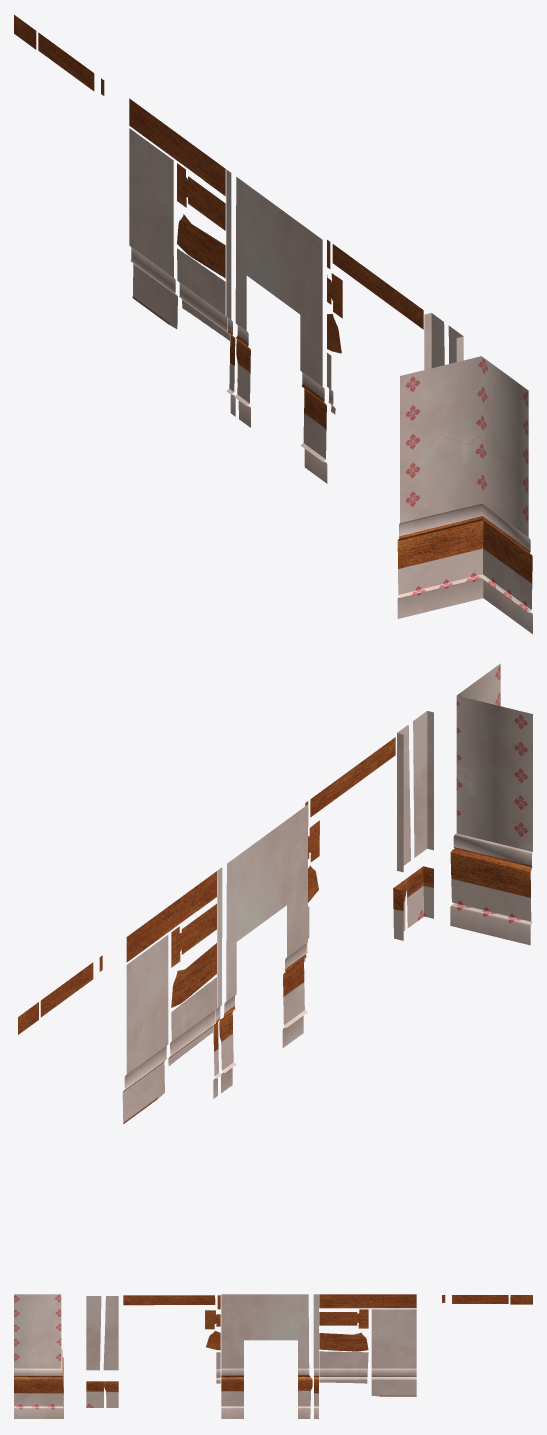
Rendered from interiorWalls.fbx.
The picture shows the model from 3 angles, top to bottom: view 1: azimuth 30°, elevation 25°; view 2: azimuth 150°, elevation 25°; view 3: azimuth 270°, elevation 25°; orthographic projection. The views are drawn at different scales.
Visible parts, largest first — view 1: InteriorWall_corner, InteriorWall_normal, InteriorWall_entrance, InteriorWall_windowS, InteriorWall_windowL, InteriorWall_pillar; view 2: InteriorWall_corner, InteriorWall_normal, InteriorWall_entrance, InteriorWall_pillar, InteriorWall_windowS, InteriorWall_windowL; view 3: InteriorWall_normal, InteriorWall_entrance, InteriorWall_corner, InteriorWall_pillar, InteriorWall_windowS, InteriorWall_windowL.
Part boxes in pixels (left/top/right/bottom): InteriorWall_corner: left=397, top=356, right=532, bottom=633; InteriorWall_normal: left=129, top=98, right=229, bottom=340; InteriorWall_entrance: left=226, top=169, right=327, bottom=483; InteriorWall_windowS: left=327, top=240, right=423, bottom=414; InteriorWall_windowL: left=14, top=15, right=104, bottom=95; InteriorWall_pillar: left=424, top=313, right=463, bottom=369; InteriorWall_corner: left=450, top=663, right=532, bottom=945; InteriorWall_normal: left=122, top=871, right=216, bottom=1123; InteriorWall_entrance: left=213, top=804, right=307, bottom=1098; InteriorWall_pillar: left=393, top=711, right=433, bottom=940; InteriorWall_windowS: left=304, top=737, right=395, bottom=962; InteriorWall_windowL: left=18, top=955, right=102, bottom=1034; InteriorWall_normal: left=319, top=1294, right=416, bottom=1396; InteriorWall_entrance: left=221, top=1294, right=318, bottom=1418; InteriorWall_corner: left=14, top=1294, right=63, bottom=1418; InteriorWall_pillar: left=86, top=1296, right=118, bottom=1407; InteriorWall_windowS: left=123, top=1295, right=220, bottom=1383; InteriorWall_windowL: left=442, top=1295, right=532, bottom=1304.
Bounding box in the file's own units: 2.77 × 7.02 × 26.65.
